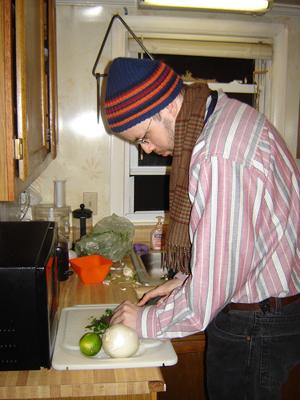person: (104, 54, 300, 400)
